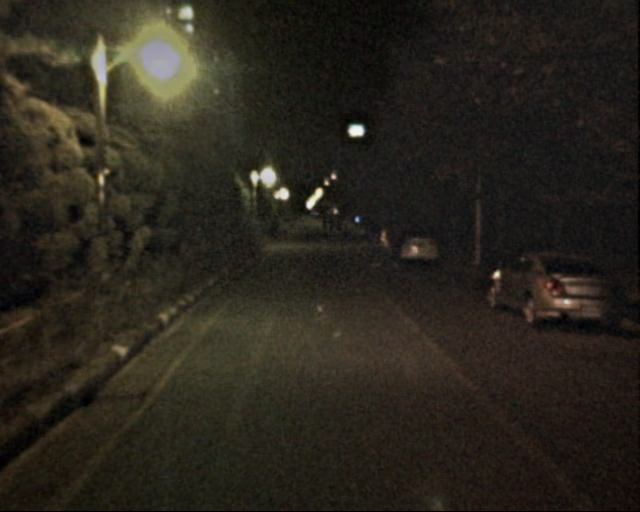person: (386, 219, 406, 267), (365, 223, 383, 268), (323, 220, 342, 239), (279, 217, 288, 240)
